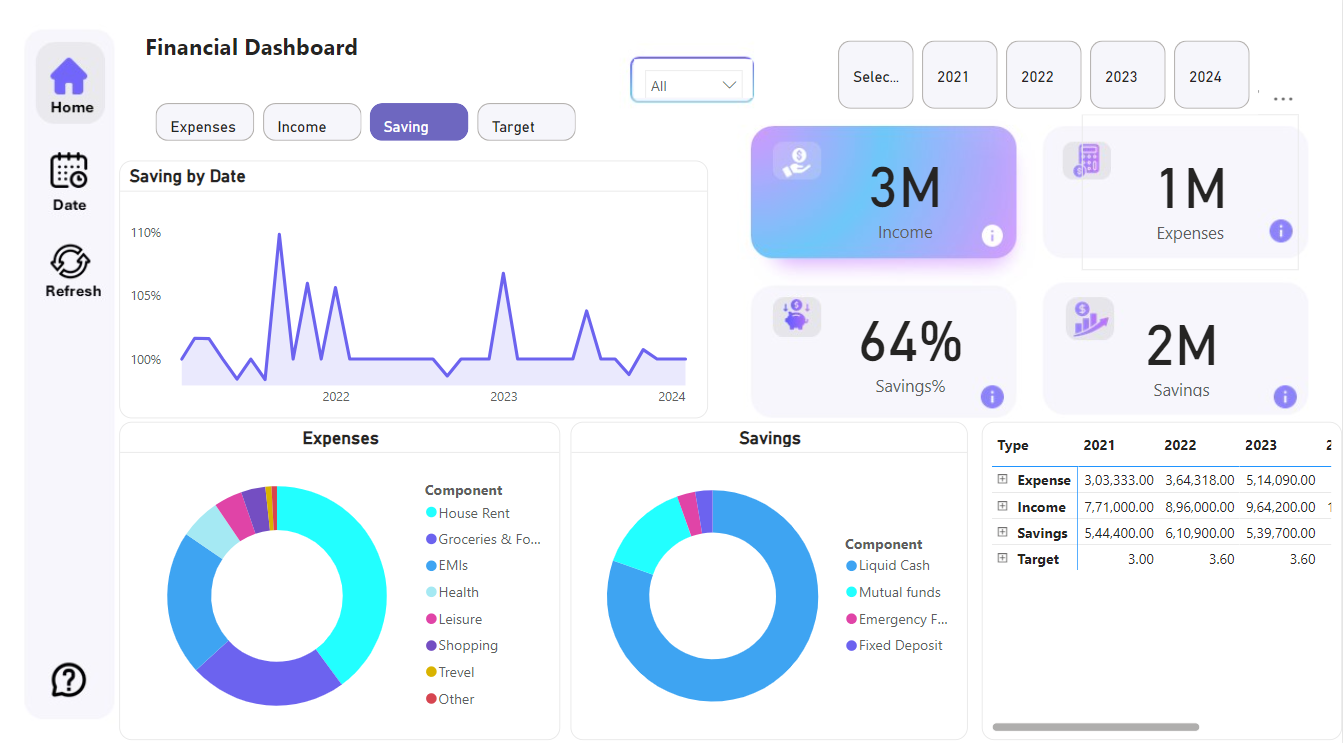

The page's visual inventory and layout, read from the dashboard file:
{"tool":"powerbi","page":{"name":"Home Page","canvas":[1280,720],"ordinal":0},"visuals":[{"type":"card","fields":{"Values":["FinData.Savings"]},"box":[1034.5,289.3,185.7,100],"z":0},{"type":"card","fields":{"Values":["FinData.Income"]},"box":[777.4,127.4,173.8,122.6],"z":1000},{"type":"card","fields":{"Values":["FinData.Expenses"]},"box":[1032.1,115.5,207.1,148.8],"z":2000},{"type":"card","fields":{"Values":["FinData.Savings%"]},"box":[777.4,282.1,183.3,107.1],"z":3000},{"type":"advancedSlicerVisual","fields":{"Values":["FinData.Year"]},"box":[795.2,40.5,404.8,75],"z":4000},{"type":"donutChart","title":"Expenses ","fields":{"Category":["FinData.Component"],"Y":["FinData.Expenses"]},"box":[115.5,408.3,420.2,303.6],"z":5000},{"type":"donutChart","title":"Savings ","fields":{"Category":["FinData.Component"],"Y":["FinData.Savings"]},"box":[545.2,408.3,378.6,303.6],"z":6000},{"type":"pivotTable","fields":{"Rows":["FinData.Type","FinData.Component"],"Columns":["FinData.Year"],"Values":["FinData.Total Value"]},"box":[936.9,408.3,342.9,303.6],"z":7000},{"type":"areaChart","fields":{"Category":["FinData.Date"],"Y":["FinData.Line chart measure"]},"box":[115.5,159.5,560.7,245.2],"z":8000},{"type":"advancedSlicerVisual","fields":{"Values":["Line selection Table.Type"]},"box":[145.2,100,410.7,46.4],"z":9000},{"type":"slicer","fields":{"Values":["FinData.Month-Yr"]},"box":[606,63.1,113.1,36.9],"z":10000},{"type":"textbox","box":[123.8,31,235.7,47.6],"z":11000}]}

Visuals, with their boxes on the page's 1280x720 design canvas (x1, y1, x2, y2). These are canvas units, not pixel positions in the 1343x743 screenshot, which may show the page scaled, cropped or inside an application window:
card - FinData.Savings: pyautogui.locateOnScreen(1034, 289, 1220, 389)
card - FinData.Income: pyautogui.locateOnScreen(777, 127, 951, 250)
card - FinData.Expenses: pyautogui.locateOnScreen(1032, 116, 1239, 264)
card - FinData.Savings%: pyautogui.locateOnScreen(777, 282, 961, 389)
advancedSlicerVisual - FinData.Year: pyautogui.locateOnScreen(795, 40, 1200, 116)
"Expenses " donutChart: pyautogui.locateOnScreen(116, 408, 536, 712)
"Savings " donutChart: pyautogui.locateOnScreen(545, 408, 924, 712)
pivotTable - FinData.Type x FinData.Component: pyautogui.locateOnScreen(937, 408, 1280, 712)
areaChart - FinData.Date x FinData.Line chart measure: pyautogui.locateOnScreen(116, 160, 676, 405)
advancedSlicerVisual - Line selection Table.Type: pyautogui.locateOnScreen(145, 100, 556, 146)
slicer - FinData.Month-Yr: pyautogui.locateOnScreen(606, 63, 719, 100)
textbox: pyautogui.locateOnScreen(124, 31, 360, 79)
